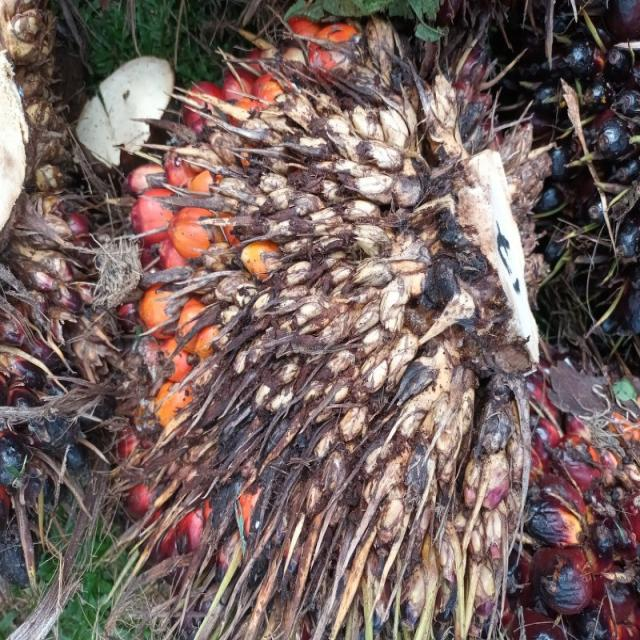fraksi 1: (98, 5, 573, 620)
